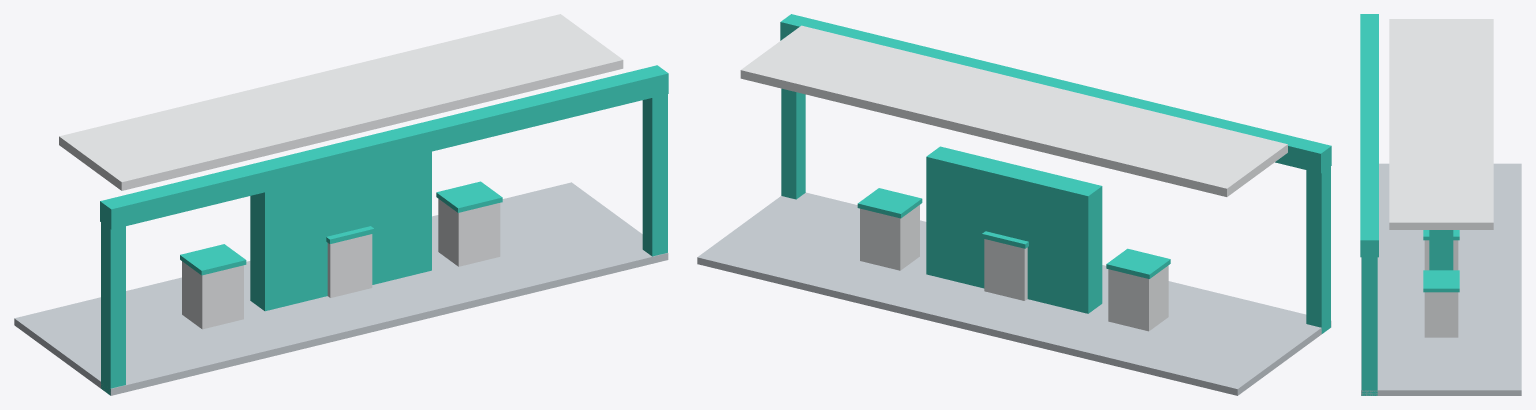
3 renders of one model, left to right at view 1: azimuth 30°, elevation 25°; view 2: azimuth 150°, elevation 25°; view 3: azimuth 270°, elevation 25°, orthographic. The views are drawn at different scales.
Visible parts, largest first — view 1: Exhibition Booth Concept; view 2: Exhibition Booth Concept; view 3: Exhibition Booth Concept.
Boxes of the visible parts, x1,y1,x2,y2 form: Exhibition Booth Concept: (14,14,668,395); Exhibition Booth Concept: (697,14,1331,395); Exhibition Booth Concept: (1360,14,1521,395).
Bounding box in the file's own units: 10 × 3.34 × 3.01.
